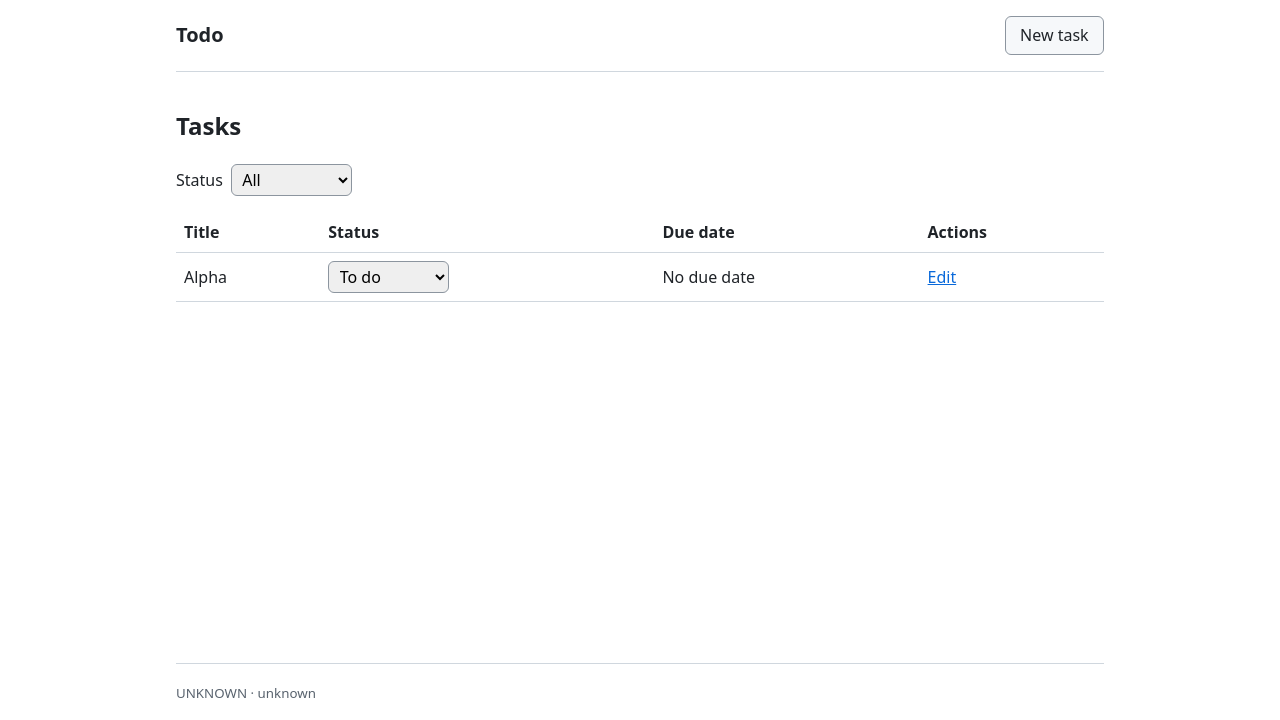
Test: SCRUM-6 task list status › SCRUM-6-AC-11: a 400 reverts the row with a generic message, never the raw server message
Step 1. Select "Done" in the dropdown named "Status for Alpha" → (389, 277), box left=328, top=261, right=449, bottom=293
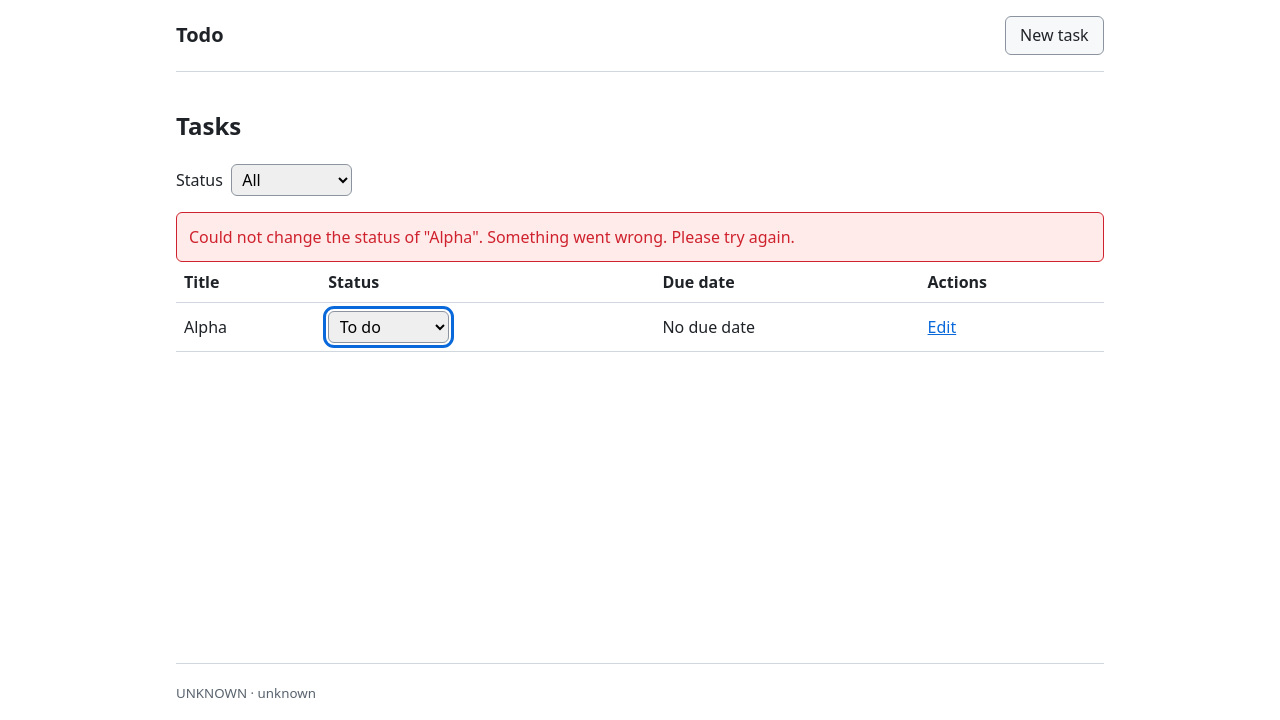
Expected: the message does not show "XYZ", left=176, top=212, right=1104, bottom=262
Result: the message shows "Something went wrong. Please try again." at left=189, top=226, right=795, bottom=248
